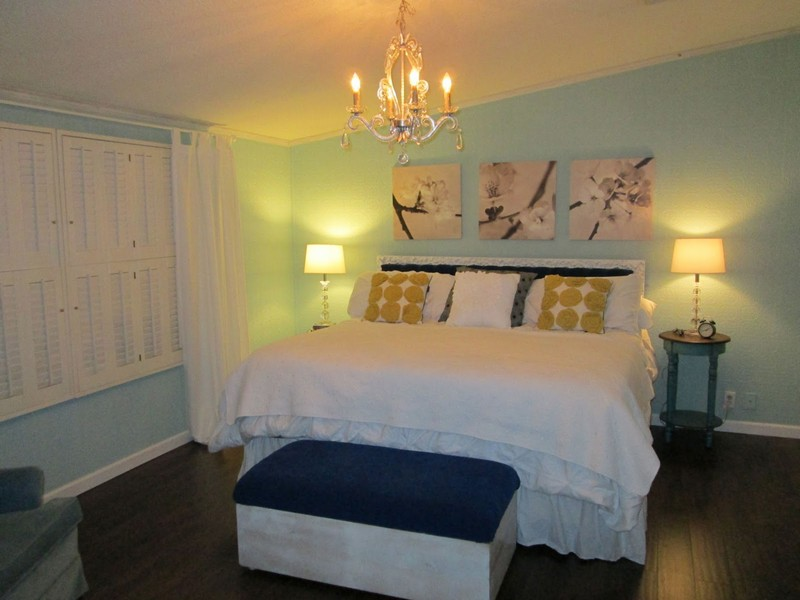bed: (223, 253, 660, 582)
lamp: (669, 234, 728, 337), (300, 241, 347, 331)
sofa: (2, 461, 94, 596)
table: (659, 328, 731, 445)
